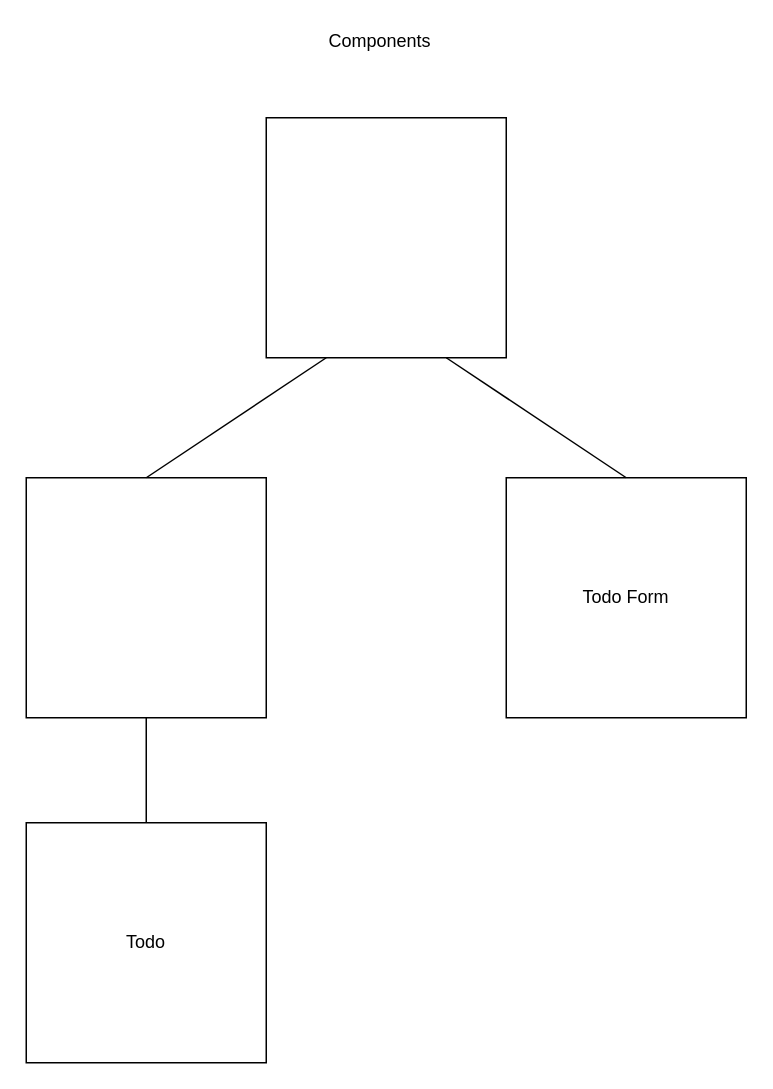
This 773x1089 diagram has some shape labels left out. The shapes that lost their labels are listed below. From the top down, each one's centre as x and y in pixels, then its label:
point (385, 237): App
point (145, 597): Todo List
